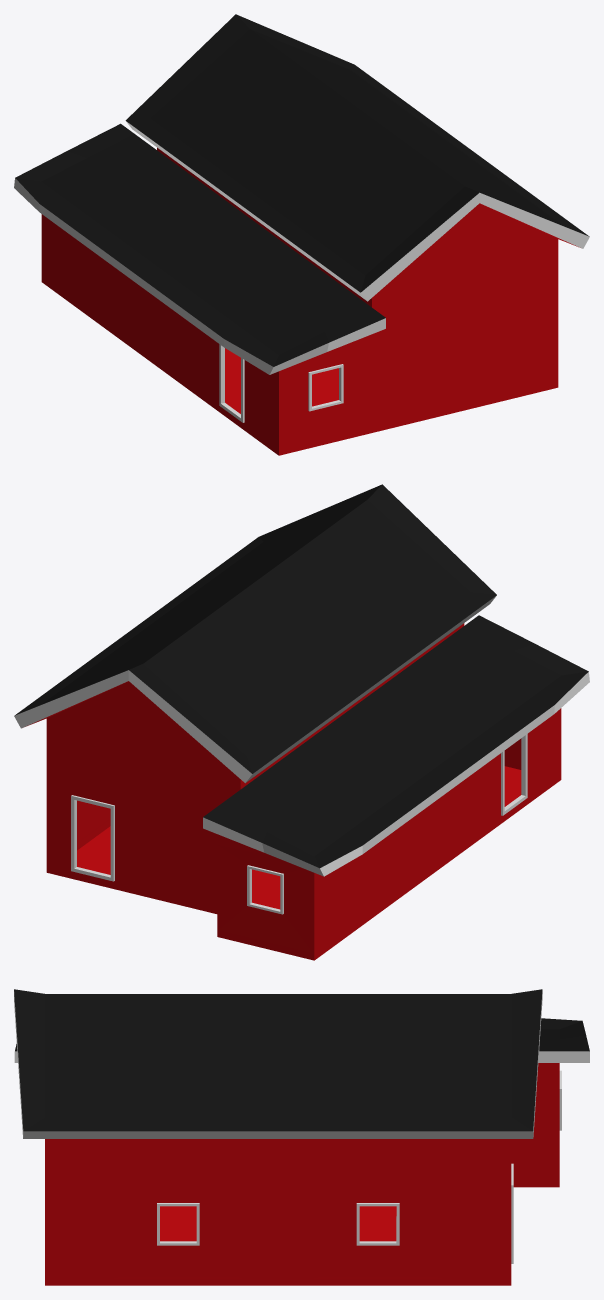
Rendered from Barn1.fbx.
The picture shows the model from 3 angles, top to bottom: view 1: azimuth 30°, elevation 25°; view 2: azimuth 150°, elevation 25°; view 3: azimuth 270°, elevation 25°; orthographic projection. The views are drawn at different scales.
Visible parts, largest first — view 1: Cube; view 2: Cube; view 3: Cube.
Boxes of the visible parts, <box> form: Cube: <box>14,14,589,455</box>; Cube: <box>14,484,589,960</box>; Cube: <box>14,989,589,1285</box>.
Size of the model in its own units: 524 by 351 by 741.
